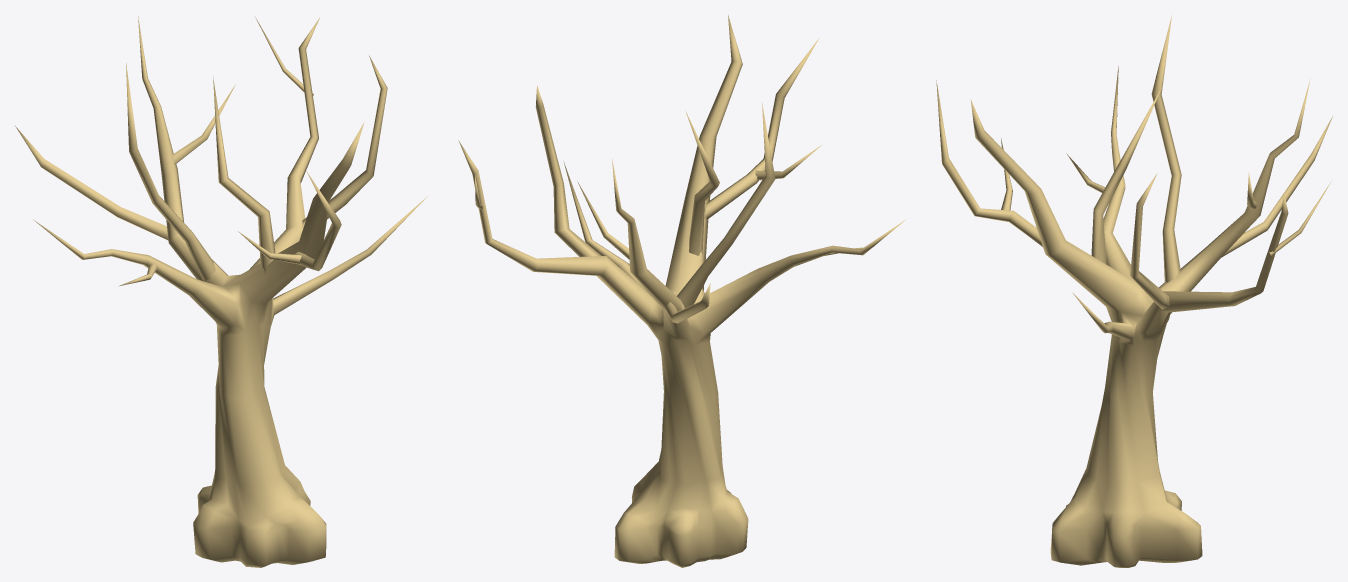
Rendered from tree_generic_001.002.glb.
3 views of the same model, side by side, from view 1: azimuth 30°, elevation 25°; view 2: azimuth 150°, elevation 25°; view 3: azimuth 270°, elevation 25° (orthographic).
Parts seen in each view (by area): view 1: tree_generic_001.002; view 2: tree_generic_001.002; view 3: tree_generic_001.002.
Boxes of the visible parts, <box> form: tree_generic_001.002: <box>15,16,427,567</box>; tree_generic_001.002: <box>458,15,905,567</box>; tree_generic_001.002: <box>936,15,1332,567</box>.
Size of the model in its own units: 5.99 by 7.58 by 5.59.
